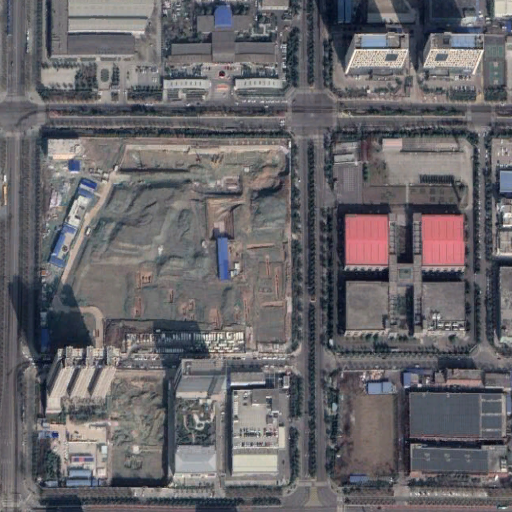cw: (38, 138, 291, 348), (104, 375, 165, 485)
